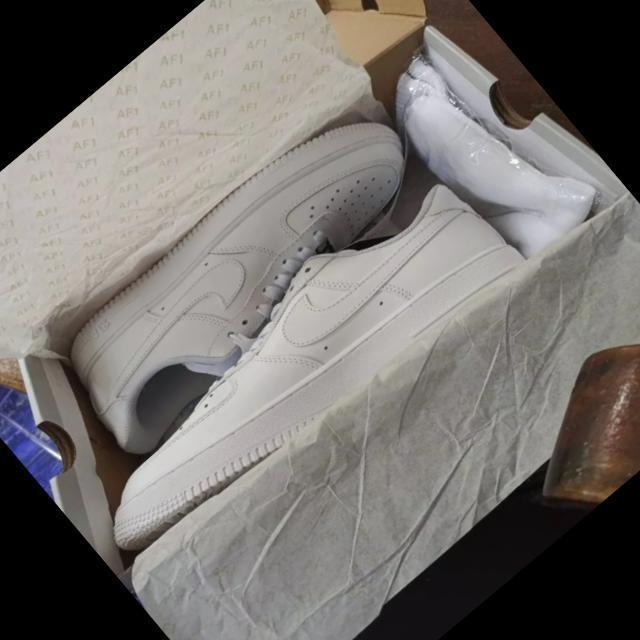nike original air force: (47, 148, 527, 584), (0, 79, 456, 498)
